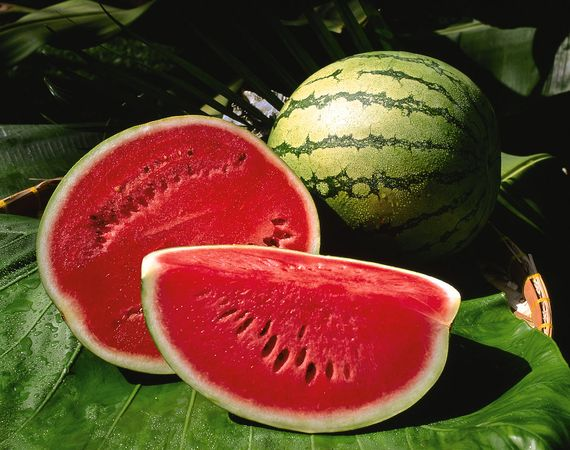watermelon: (131, 236, 470, 429), (42, 108, 309, 353), (259, 50, 501, 272)
